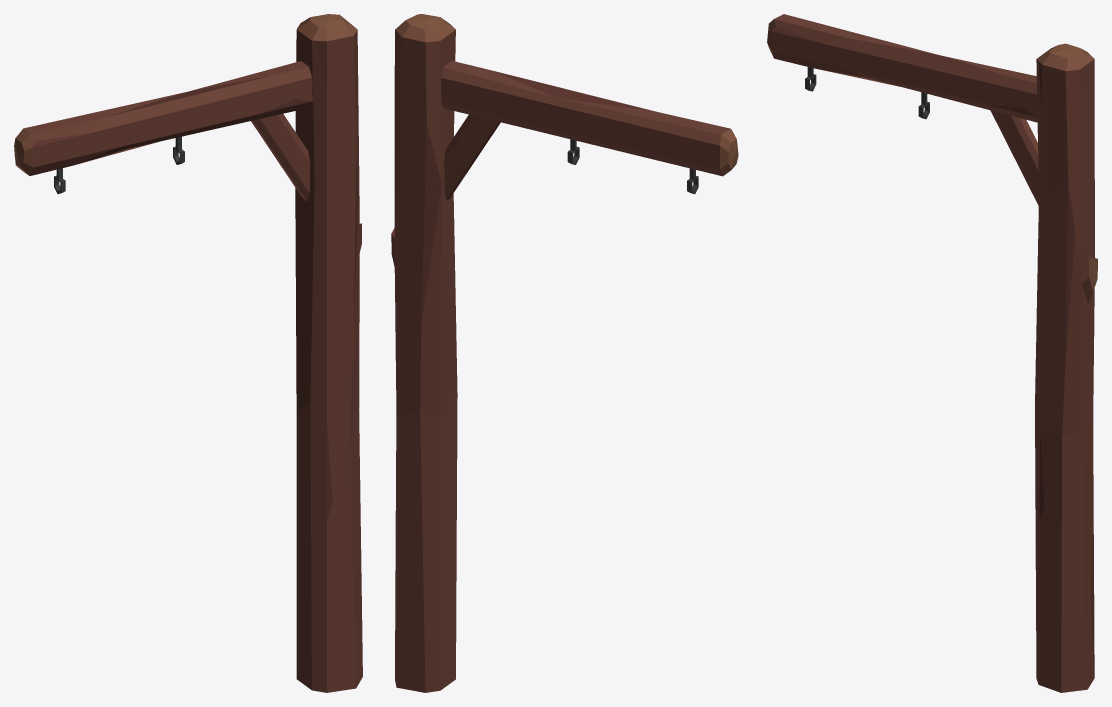
Rendered from pole_for_signboard.fbx.
The picture shows the model from 3 angles, left to right: view 1: azimuth 30°, elevation 25°; view 2: azimuth 150°, elevation 25°; view 3: azimuth 330°, elevation 25°; orthographic projection. The views are drawn at different scales.
Parts seen in each view (by area): view 1: pole; view 2: pole; view 3: pole.
Boxes of the visible parts, <box> form: pole: <box>14,14,362,692</box>; pole: <box>391,14,738,692</box>; pole: <box>767,14,1097,692</box>.
Size of the model in its own units: 118 by 219 by 19.51.
